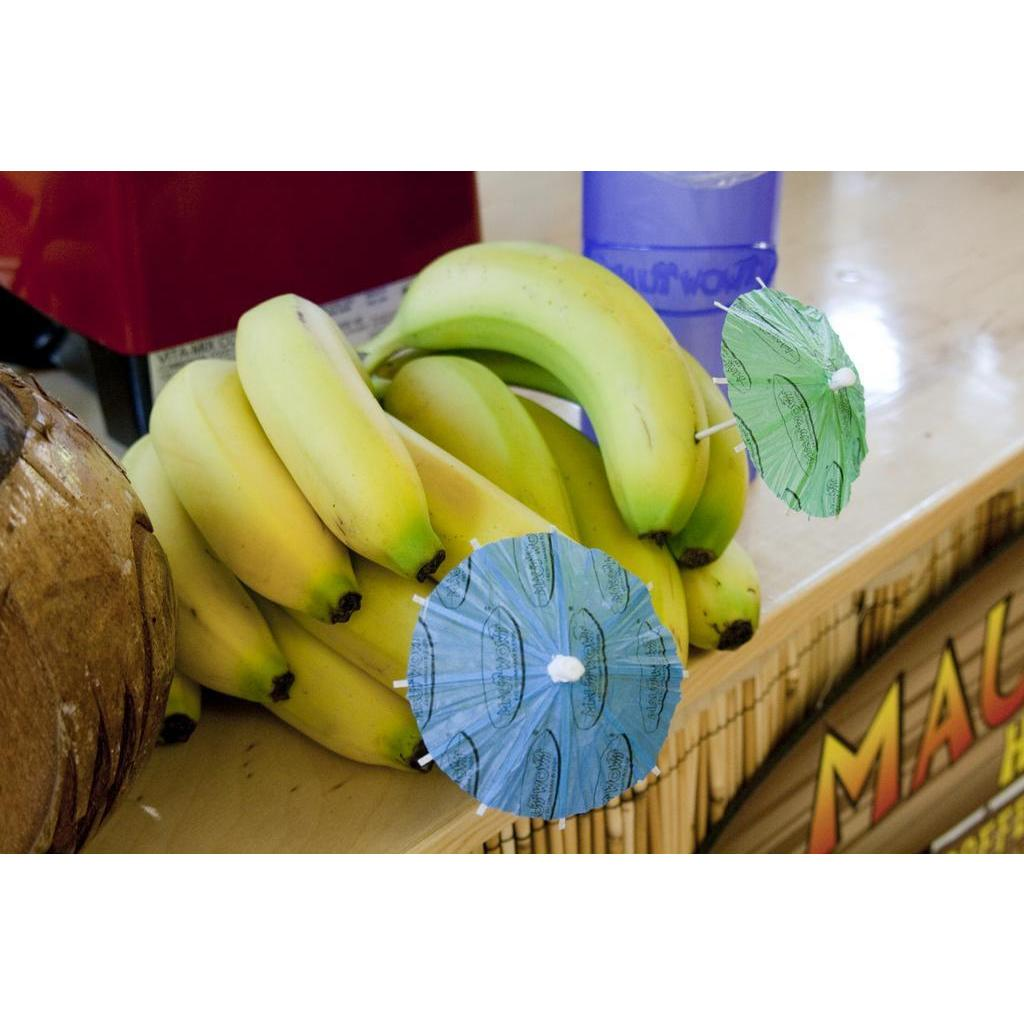banana: (358, 240, 713, 537), (148, 334, 365, 624), (235, 294, 447, 579)
